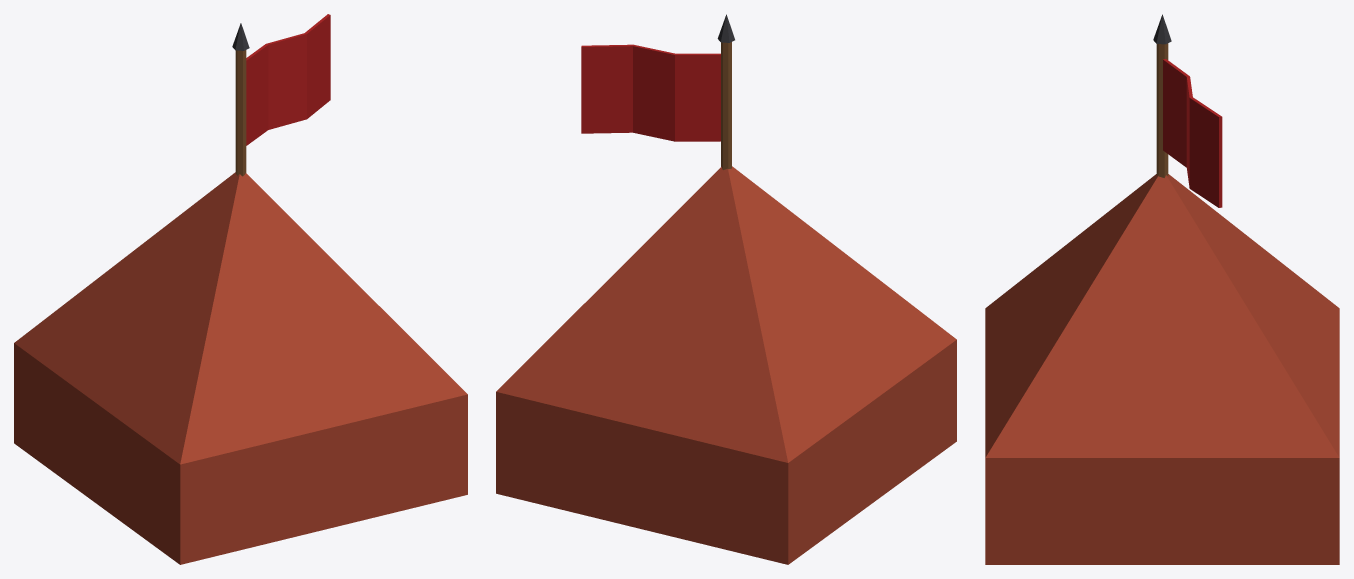
Rendered from Dach_Szczyt_Choragiew.fbx.
3 views of the same model, side by side, from view 1: azimuth 30°, elevation 25°; view 2: azimuth 150°, elevation 25°; view 3: azimuth 270°, elevation 25° (orthographic). The views are drawn at different scales.
Visible parts, largest first — view 1: Dach_Szczyt_Choragiew; view 2: Dach_Szczyt_Choragiew; view 3: Dach_Szczyt_Choragiew.
Boxes of the visible parts, x1,y1,x2,y2 form: Dach_Szczyt_Choragiew: (14,14,467,564); Dach_Szczyt_Choragiew: (496,14,956,564); Dach_Szczyt_Choragiew: (985,14,1339,564).
Bounding box in the file's own units: 3 × 4.45 × 3.
